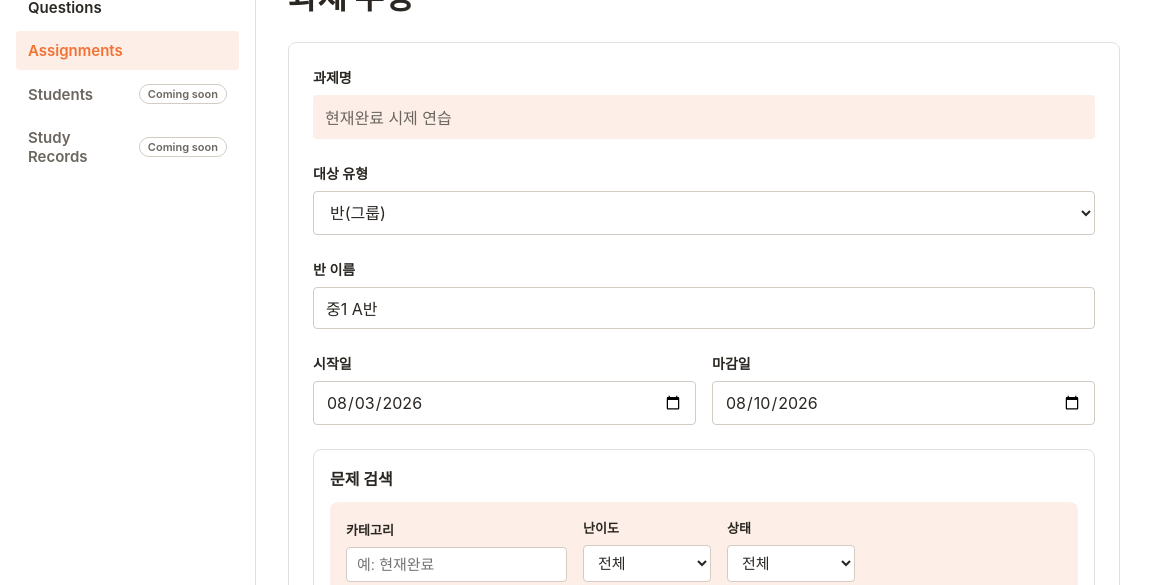
Test: AssignmentEditPage › blocks submission and shows field errors when the target or questions become invalid
Clear the field labelled "반 이름" at {"x": 704, "y": 308}, box [313,287,1095,329]
(page scrolled)
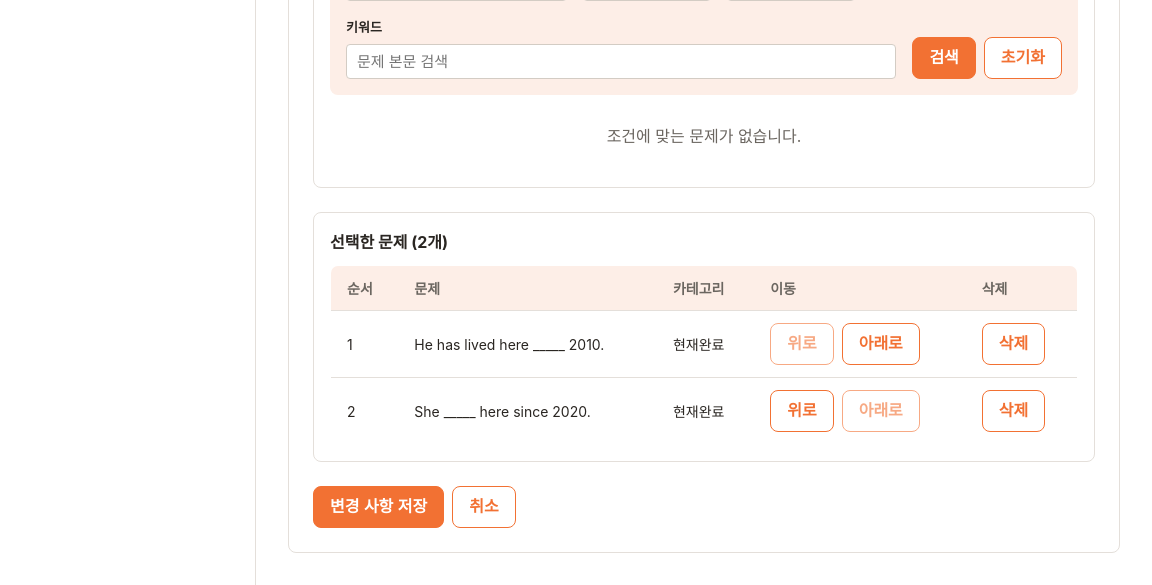
Click the button with aria-label "She _____ here since 2020. 삭제" at {"x": 1013, "y": 411}, box [982,390,1045,432]
(page scrolled)
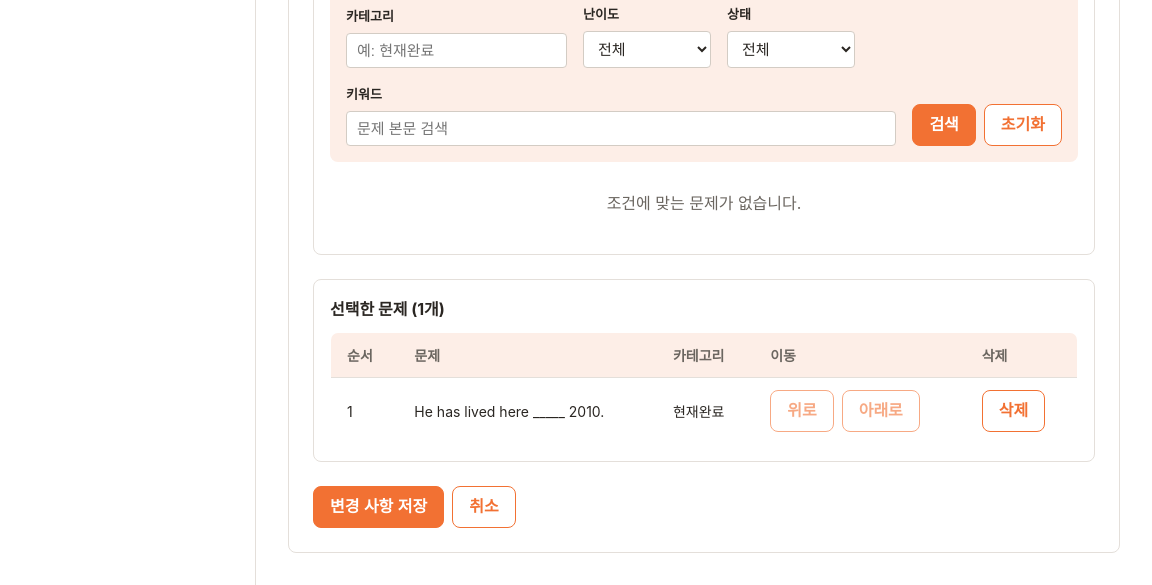
Click the button with aria-label "He has lived here _____ 2010. 삭제" at {"x": 1013, "y": 411}, box [982,390,1045,432]
(page scrolled)
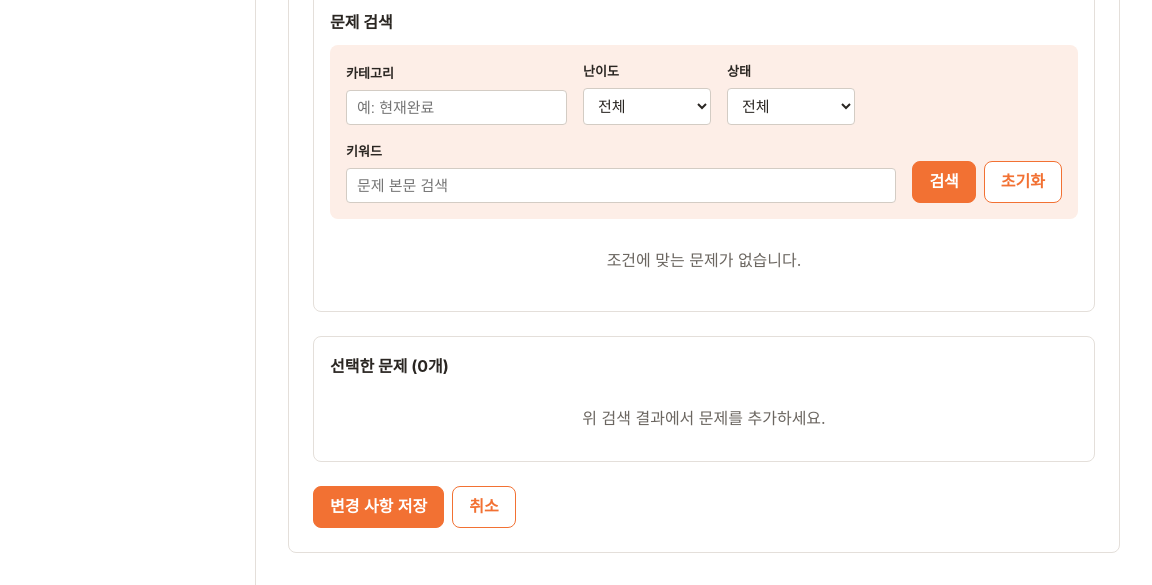
Click the button "변경 사항 저장" at {"x": 379, "y": 507}, box [313,486,444,528]
(page scrolled)
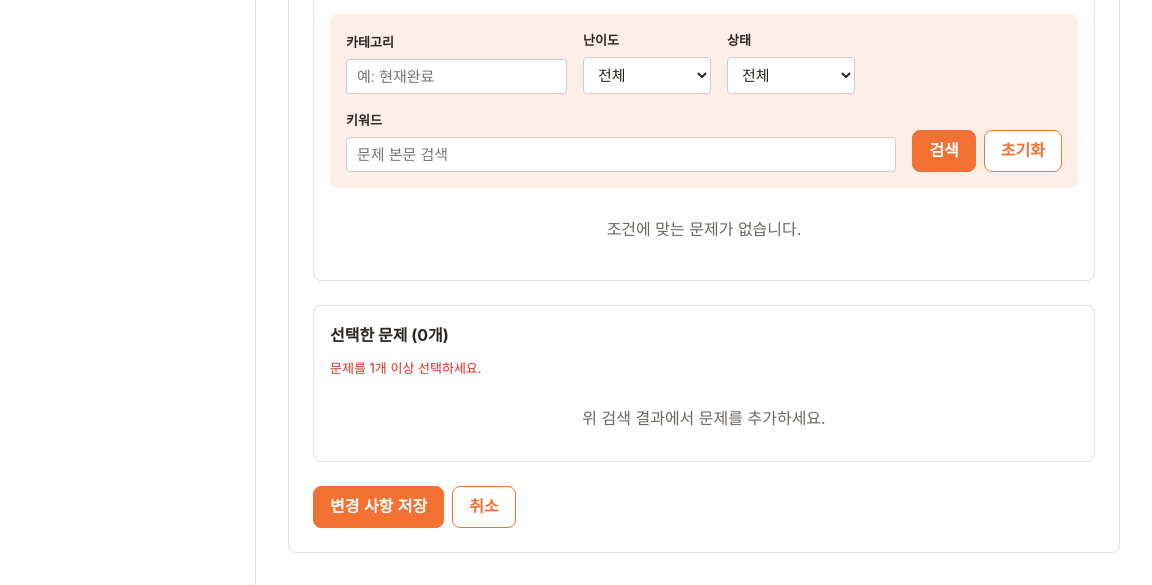
Now the text "문제를 1개 이상 선택하세요." is shown, box [330,360,482,376]
